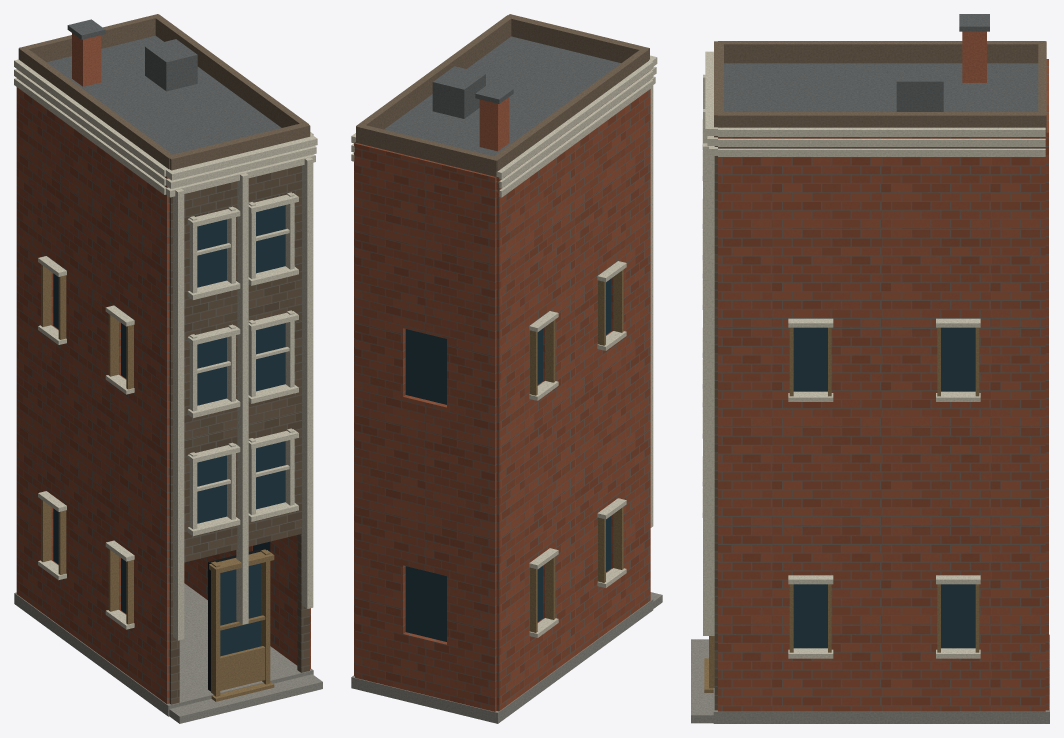
The model's file is OFFC14_lod2.glb.
3 views of the same model, side by side, from view 1: azimuth 30°, elevation 25°; view 2: azimuth 150°, elevation 25°; view 3: azimuth 270°, elevation 25° (orthographic). The views are drawn at different scales.
Visible parts, largest first — view 1: OFFC14_LOD2; view 2: OFFC14_LOD2; view 3: OFFC14_LOD2.
Boxes of the visible parts, <box> form: OFFC14_LOD2: <box>14,14,322,723</box>; OFFC14_LOD2: <box>351,14,662,723</box>; OFFC14_LOD2: <box>691,14,1049,723</box>.
Size of the model in its own units: 3.71 by 13.05 by 6.57.
10 materials, 8 textured.
